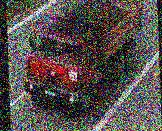truck: (20, 0, 147, 119)
